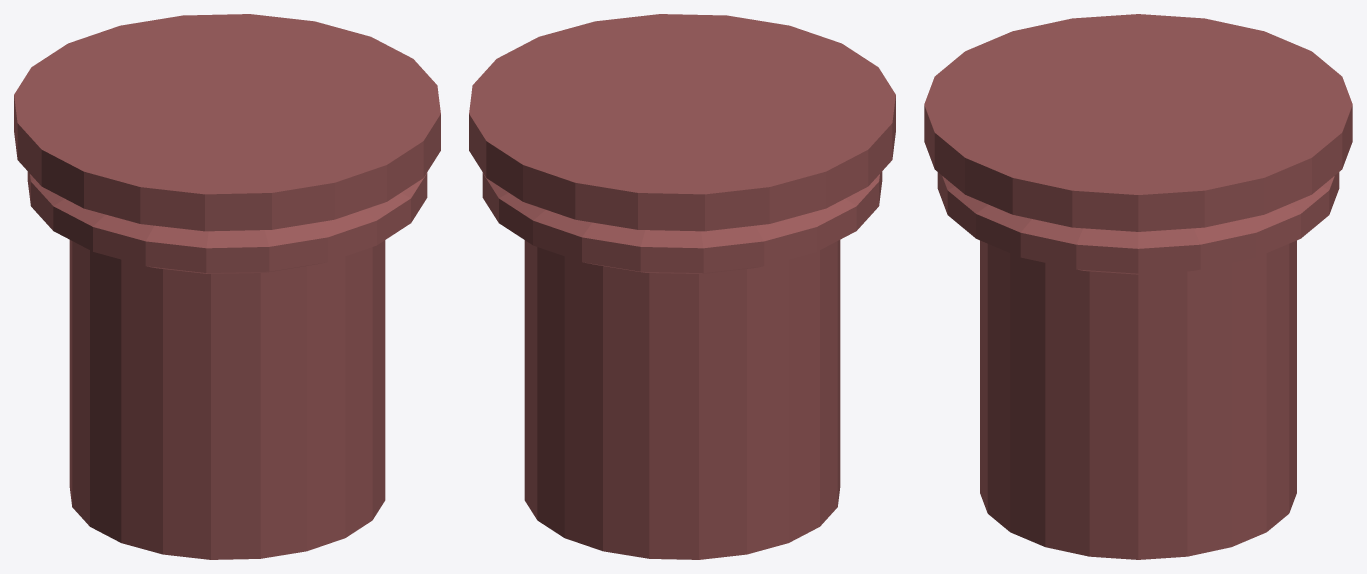
Rendered from colon1_top.fbx.
3 views of the same model, side by side, from view 1: azimuth 30°, elevation 25°; view 2: azimuth 150°, elevation 25°; view 3: azimuth 270°, elevation 25° (orthographic).
Parts seen in each view (by area): view 1: colon_top; view 2: colon_top; view 3: colon_top.
Boxes of the visible parts, x1,y1,x2,y2 form: colon_top: (14, 14, 440, 559); colon_top: (469, 14, 895, 559); colon_top: (924, 14, 1352, 559).
Size of the model in its own units: 1 by 1 by 1.
